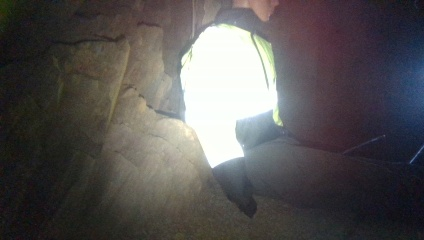manikin: (179, 2, 422, 223)
